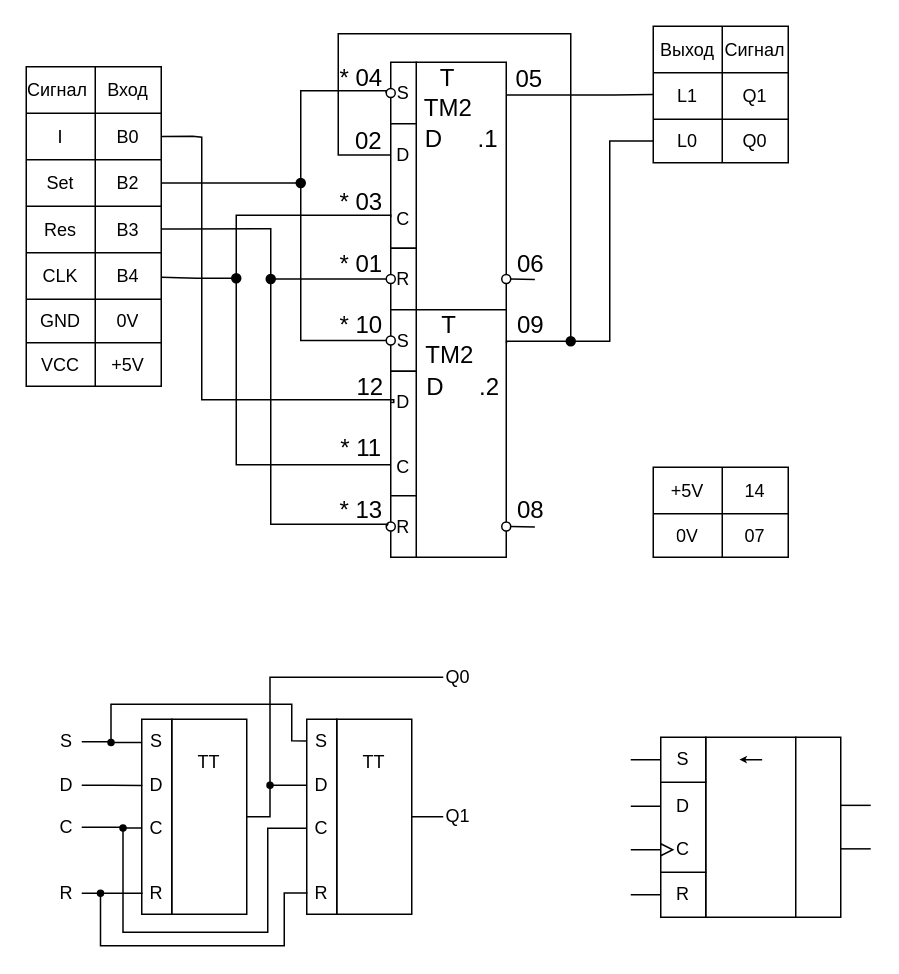
Image size: 899x974. Some labels were removed from this diagram. Each missing label, with the centre of its shape:
Q0 Q1: the point at 817,826
RG: the point at 750,826
